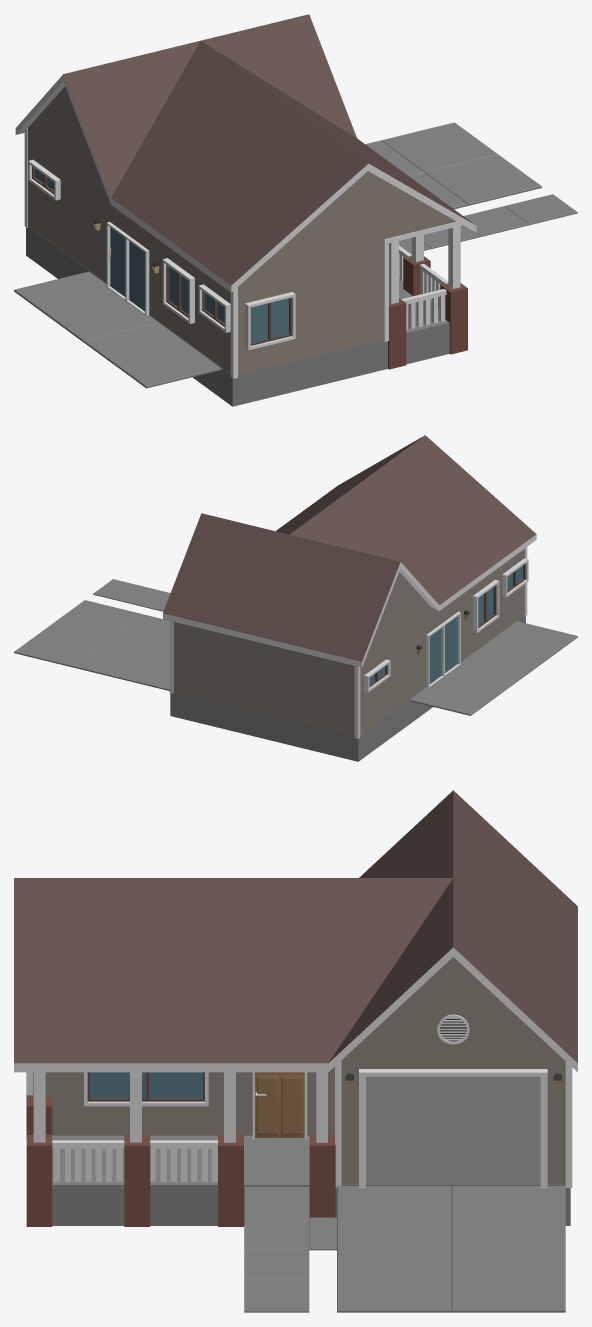
File: Proto_HouseSmall_Tan.fbx
3 views of the same model, one above another, from view 1: azimuth 30°, elevation 25°; view 2: azimuth 150°, elevation 25°; view 3: azimuth 270°, elevation 25° (orthographic). The views are drawn at different scales.
Visible parts, largest first — view 1: HouseSmall_Tan; view 2: HouseSmall_Tan; view 3: HouseSmall_Tan.
Boxes of the visible parts, <box> form: HouseSmall_Tan: <box>14,14,577,406</box>; HouseSmall_Tan: <box>14,435,577,761</box>; HouseSmall_Tan: <box>14,790,577,1312</box>.
Size of the model in its own units: 32.35 by 13.28 by 24.02.
